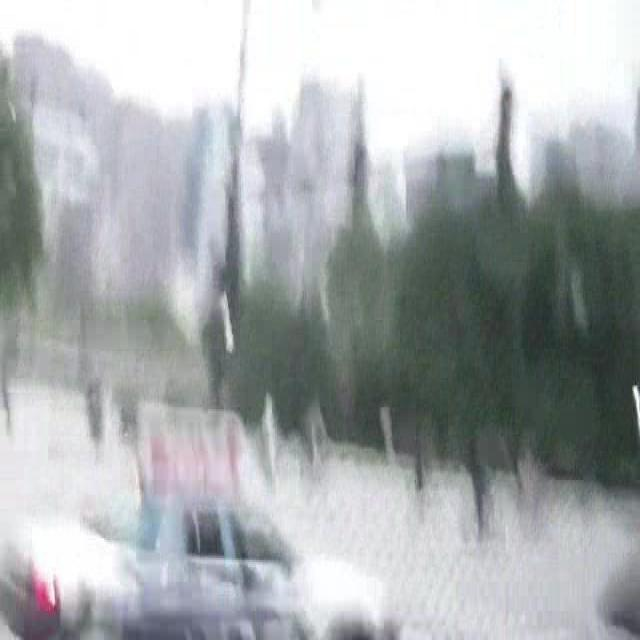other: (26, 560, 70, 616)
